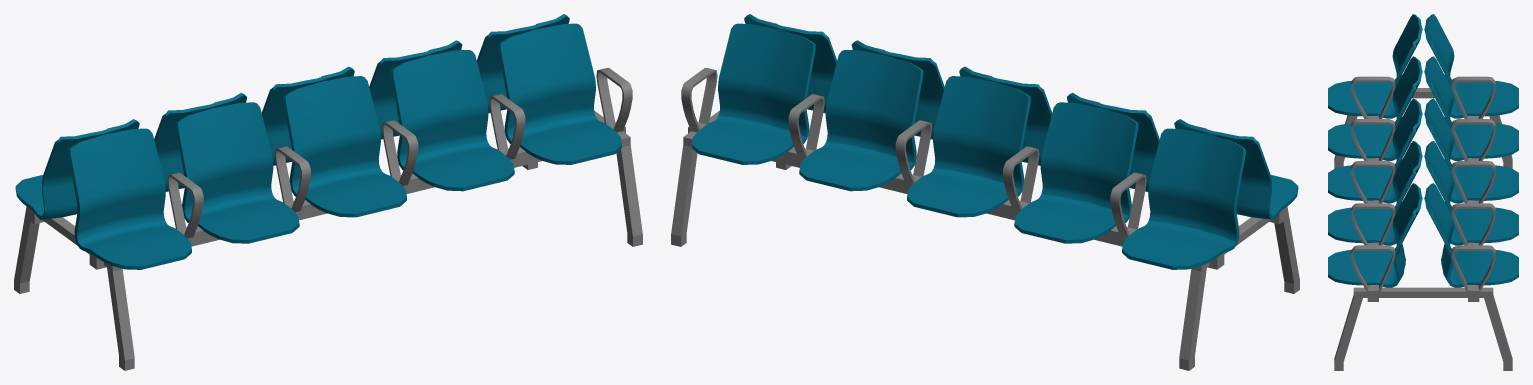
File: M_Chairs_0.fbx
3 renders of one model, left to right at view 1: azimuth 30°, elevation 25°; view 2: azimuth 150°, elevation 25°; view 3: azimuth 270°, elevation 25°, orthographic. The views are drawn at different scales.
Visible parts, largest first — view 1: M_Chairs_0; view 2: M_Chairs_0; view 3: M_Chairs_0.
Boxes of the visible parts, left/top/right/bottom form: M_Chairs_0: left=14, top=14, right=642, bottom=370; M_Chairs_0: left=671, top=14, right=1299, bottom=370; M_Chairs_0: left=1328, top=14, right=1518, bottom=370.
Size of the model in its own units: 1122 by 382 by 433.
